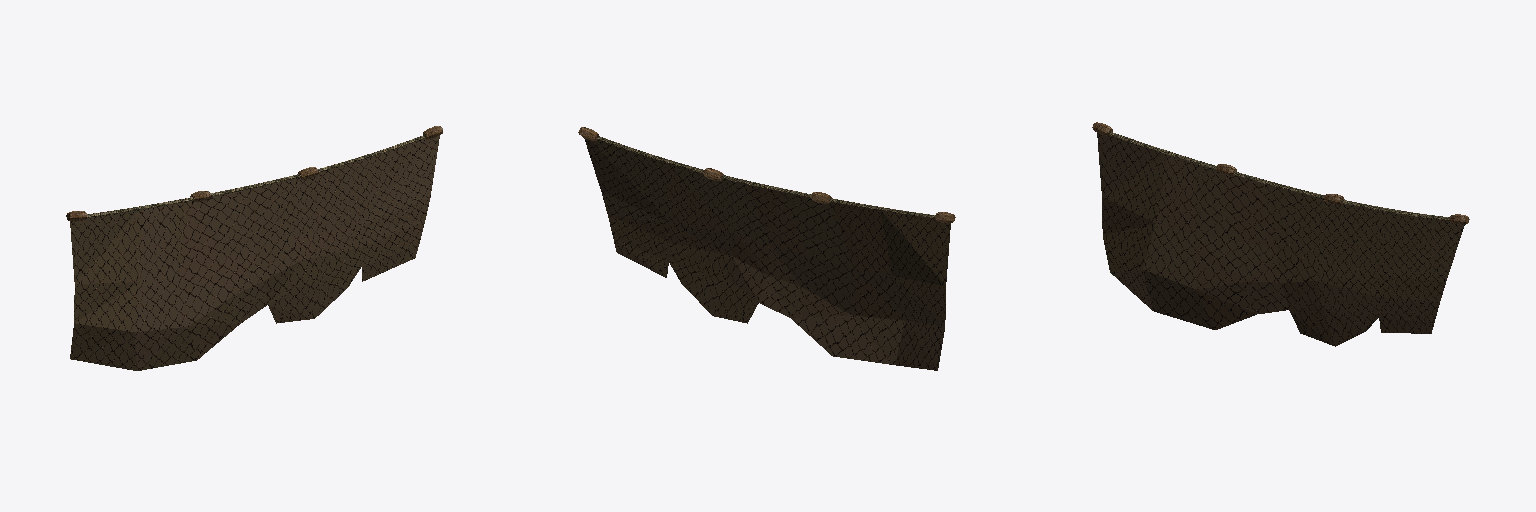
The picture shows the model from 3 angles: view 1: azimuth 30°, elevation 25°; view 2: azimuth 150°, elevation 25°; view 3: azimuth 330°, elevation 25°; orthographic projection.
Visible parts, largest first — view 1: fishing_net_hanging_flat_short; view 2: fishing_net_hanging_flat_short; view 3: fishing_net_hanging_flat_short.
Boxes of the visible parts, x1=… form: fishing_net_hanging_flat_short: x1=66, y1=126, x2=442, y2=370; fishing_net_hanging_flat_short: x1=578, y1=127, x2=955, y2=370; fishing_net_hanging_flat_short: x1=1092, y1=122, x2=1469, y2=346.
Bounding box in the file's own units: 121 × 53.99 × 9.
3 materials, 3 textured.